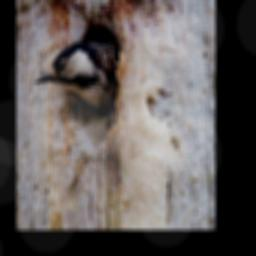Woodpecker: (35, 36, 118, 112)
